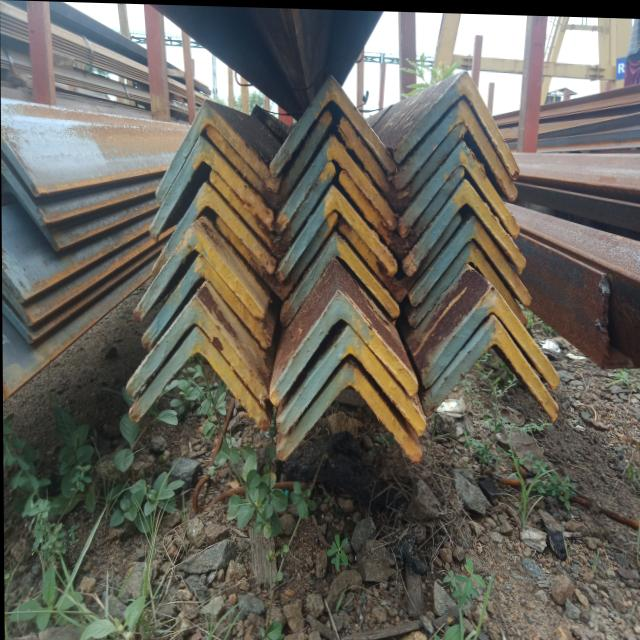metal-angles: (269, 288, 418, 404), (276, 323, 426, 435), (125, 296, 269, 401), (129, 325, 270, 429), (276, 360, 421, 459), (422, 283, 560, 386), (423, 315, 558, 418), (393, 69, 521, 177), (153, 100, 280, 203), (131, 224, 264, 322), (270, 74, 398, 175), (150, 136, 273, 239), (206, 110, 332, 210), (392, 97, 517, 197), (141, 254, 270, 350), (210, 160, 336, 258), (275, 133, 397, 234), (340, 116, 467, 212), (402, 179, 526, 275), (152, 182, 275, 278), (339, 164, 464, 258), (398, 138, 519, 235), (275, 184, 397, 279), (410, 213, 532, 305), (281, 232, 400, 326), (340, 212, 462, 300), (216, 211, 336, 299), (408, 239, 527, 327)
